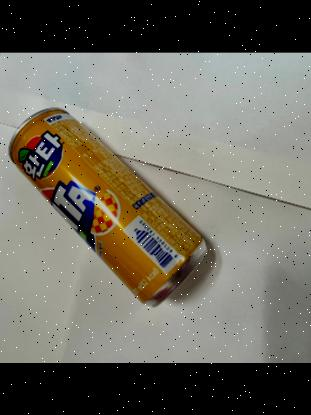Can: (4, 103, 211, 308)
